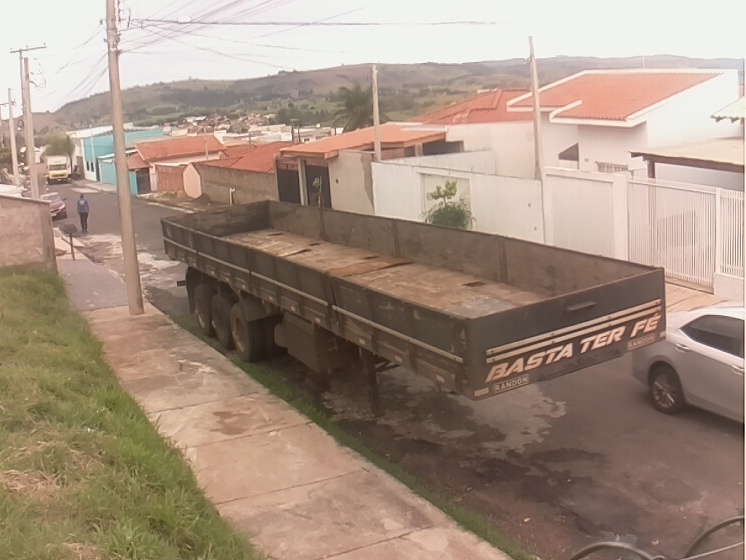person: (75, 192, 92, 236)
